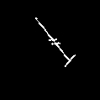treble_crochet: (35, 18, 74, 66)
